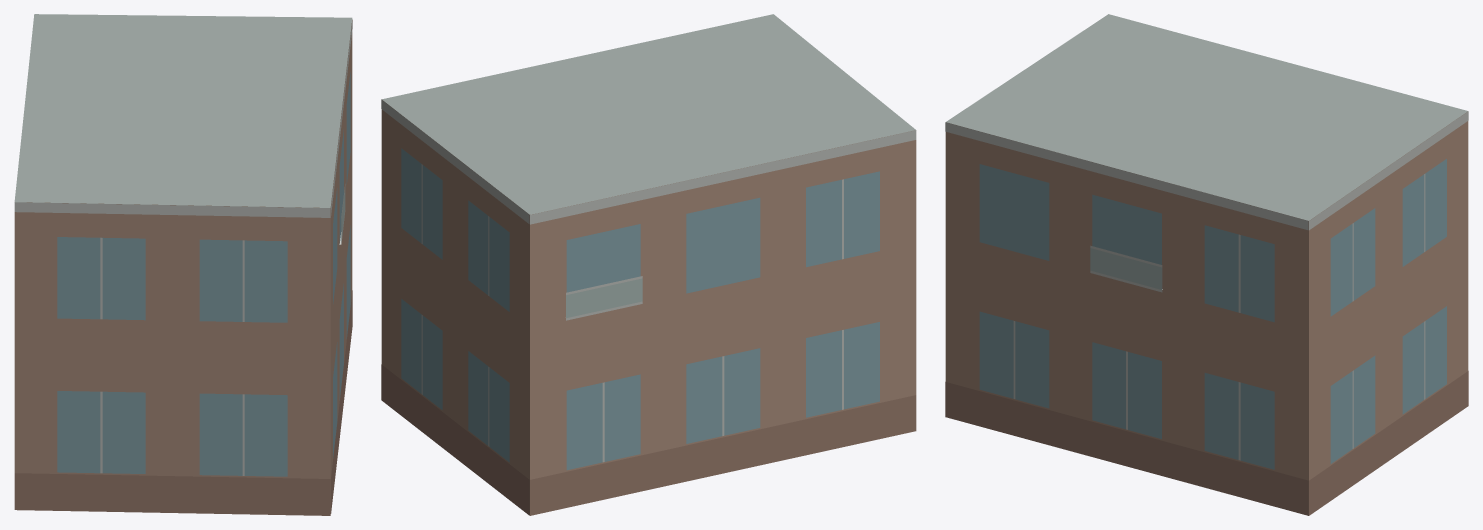
Rendered from survey-upis-32953374.glb.
3 views of the same model, side by side, from view 1: azimuth 30°, elevation 25°; view 2: azimuth 150°, elevation 25°; view 3: azimuth 270°, elevation 25° (orthographic). The views are drawn at different scales.
Parts seen in each view (by area): view 1: survey-upis-32953374.tmp; view 2: survey-upis-32953374.tmp; view 3: survey-upis-32953374.tmp.
Part boxes in pixels (x1,y1,x2,y2): survey-upis-32953374.tmp: (14, 14, 352, 515); survey-upis-32953374.tmp: (381, 14, 916, 515); survey-upis-32953374.tmp: (945, 14, 1468, 515).
Size of the model in its own units: 11.29 by 7.5 by 12.06.
